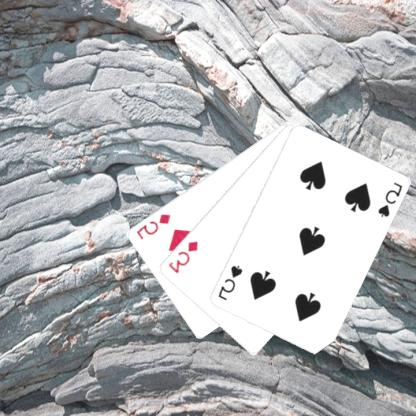3D: (167, 238, 201, 275)
5D: (136, 211, 174, 241)
5S: (216, 262, 246, 302), (377, 180, 405, 219)
